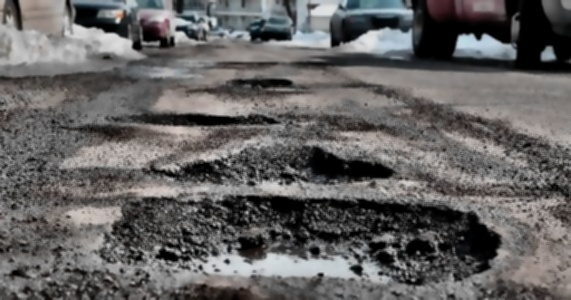pothole: (98, 192, 506, 285), (145, 141, 396, 187), (106, 111, 279, 126), (231, 75, 292, 88)
